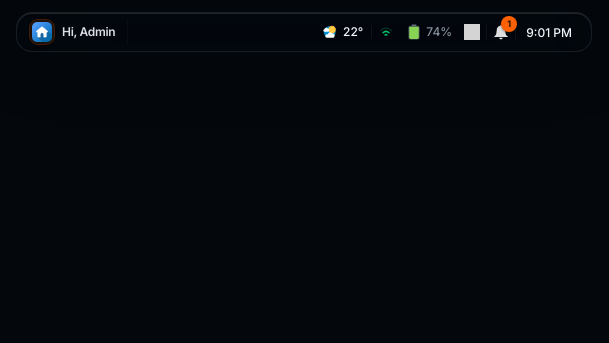
Test case: StatusBar › clears notifications from popover action
The image size is (609, 343).
Expected: the text "1" is shown, [501, 16, 517, 32]
Click the button named "Notifications": (501, 32) [487, 18, 515, 46]
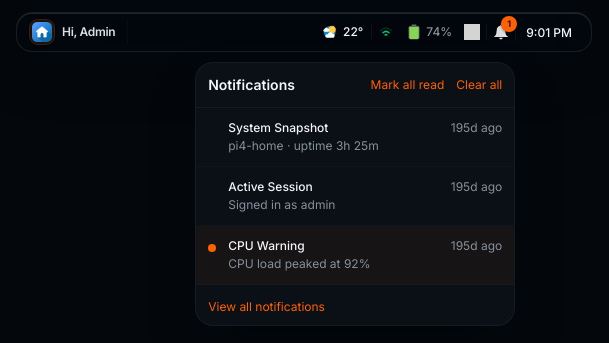
Click the button "Clear all": (479, 85) [456, 77, 502, 93]
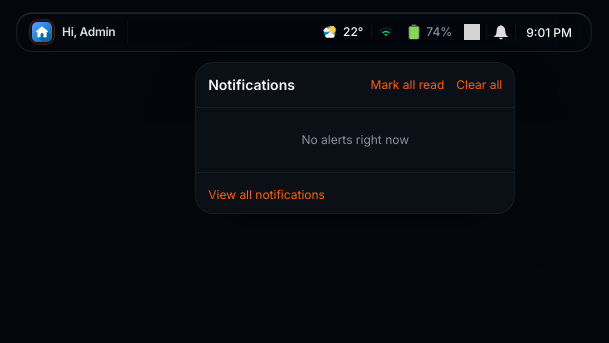
Now the text "No alerts right now" is shown, box [301, 132, 409, 147]
